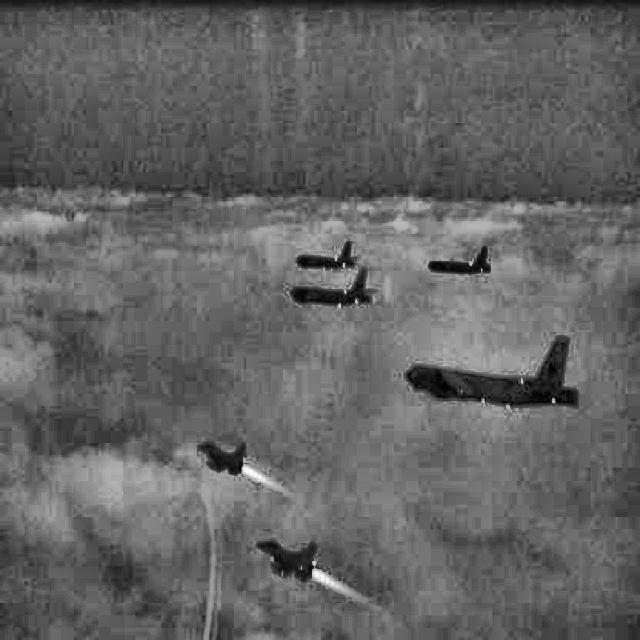B52: (404, 335, 578, 410), (291, 266, 375, 309), (295, 240, 360, 272), (428, 244, 490, 276)
F16: (256, 538, 322, 582), (196, 441, 249, 476)
